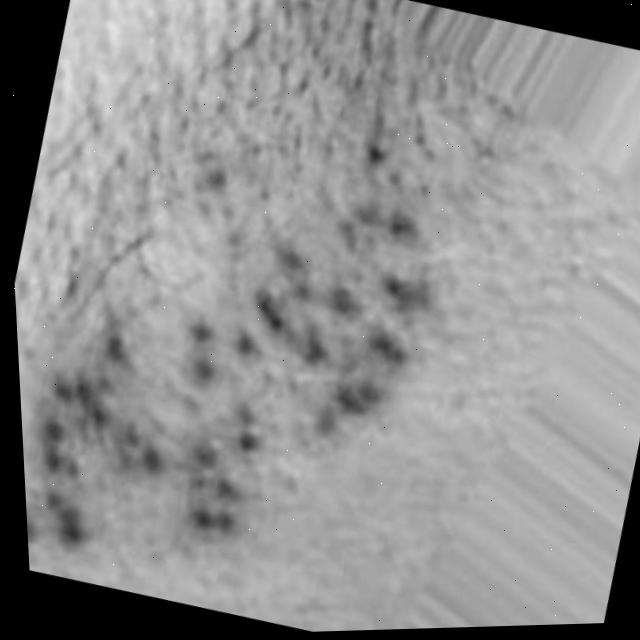Shingles: (4, 61, 481, 638)
